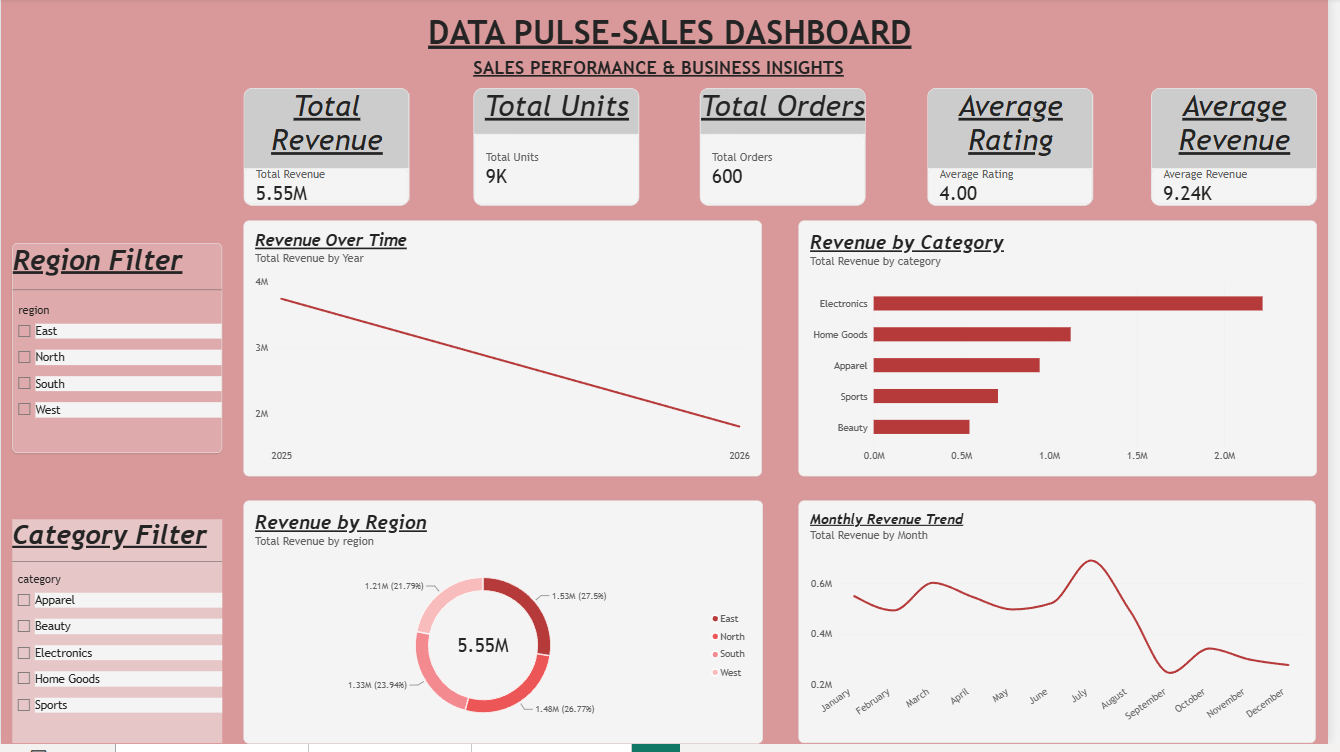

Layout of this report page (visuals, bound fields, positions):
{"tool":"powerbi","page":{"name":"Executive Dashboard","canvas":[1920,1080],"ordinal":0},"visuals":[{"type":"cardVisual","title":"Total Revenue","fields":{"Data":["data_pulse_sales_dataset.Total Revenue"]},"box":[351.4,130.4,240,170],"z":0},{"type":"cardVisual","title":"Total Units","fields":{"Data":["data_pulse_sales_dataset.Total Units"]},"box":[684.7,130.4,240,170],"z":1},{"type":"cardVisual","title":"Total Orders","fields":{"Data":["data_pulse_sales_dataset.Total Orders"]},"box":[1010.7,130.4,240,170],"z":2},{"type":"cardVisual","title":"Average Rating","fields":{"Data":["data_pulse_sales_dataset.Average Rating"]},"box":[1340.4,130.4,240,170],"z":4},{"type":"cardVisual","title":"Average Revenue","fields":{"Data":["data_pulse_sales_dataset.Average Revenue"]},"box":[1664.6,130.4,240,170],"z":5},{"type":"lineChart","title":" Revenue Over Time","fields":{"Category":["data_pulse_sales_dataset.date.Variation.Date Hierarchy.Year","data_pulse_sales_dataset.date.Variation.Date Hierarchy.Quarter","data_pulse_sales_dataset.date.Variation.Date Hierarchy.Month","data_pulse_sales_dataset.date.Variation.Date Hierarchy.Day"],"Y":["data_pulse_sales_dataset.Total Revenue"]},"box":[351.4,322.4,750,370],"z":6},{"type":"clusteredBarChart","title":"Revenue by Category","fields":{"Category":["data_pulse_sales_dataset.category"],"Y":["data_pulse_sales_dataset.Total Revenue"]},"box":[1153.8,322.4,750,370],"z":7},{"type":"donutChart","title":"Revenue by Region","fields":{"Category":["data_pulse_sales_dataset.region"],"Y":["data_pulse_sales_dataset.Total Revenue"]},"box":[351.4,728.2,752,352],"z":8},{"type":"slicer","title":"Region Filter","fields":{"Values":["data_pulse_sales_dataset.region"]},"box":[16.3,355,304,304],"z":9},{"type":"slicer","title":"Category Filter","fields":{"Values":["data_pulse_sales_dataset.category"]},"box":[16.3,755.3,304.3,324.2],"z":10},{"type":"textbox","box":[16.3,21.7,1903.8,94.1],"z":12},{"type":"lineChart","title":"Monthly Revenue Trend","fields":{"Category":["data_pulse_sales_dataset.date.Variation.Date Hierarchy.Month"],"Y":["data_pulse_sales_dataset.Total Revenue"]},"box":[1154.6,727.5,749.2,351.1],"z":13},{"type":"textbox","box":[119.4,85.1,1664.9,45.2],"z":14}]}

Visuals, with their boxes in screenshot pixels (x1, y1, x2, y2), scaled from the page's 1920x1080 canvas onto the 1340x752 screenshot:
"Total Revenue" cardVisual: (left=245, top=91, right=413, bottom=209)
"Total Units" cardVisual: (left=478, top=91, right=645, bottom=209)
"Total Orders" cardVisual: (left=705, top=91, right=873, bottom=209)
"Average Rating" cardVisual: (left=935, top=91, right=1103, bottom=209)
"Average Revenue" cardVisual: (left=1162, top=91, right=1329, bottom=209)
" Revenue Over Time" lineChart: (left=245, top=224, right=769, bottom=482)
"Revenue by Category" clusteredBarChart: (left=805, top=224, right=1329, bottom=482)
"Revenue by Region" donutChart: (left=245, top=507, right=770, bottom=751)
"Region Filter" slicer: (left=11, top=247, right=224, bottom=459)
"Category Filter" slicer: (left=11, top=526, right=224, bottom=751)
textbox: (left=11, top=15, right=1339, bottom=81)
"Monthly Revenue Trend" lineChart: (left=806, top=507, right=1329, bottom=751)
textbox: (left=83, top=59, right=1245, bottom=91)
